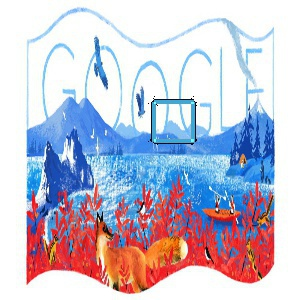square: (148, 95, 197, 145)
